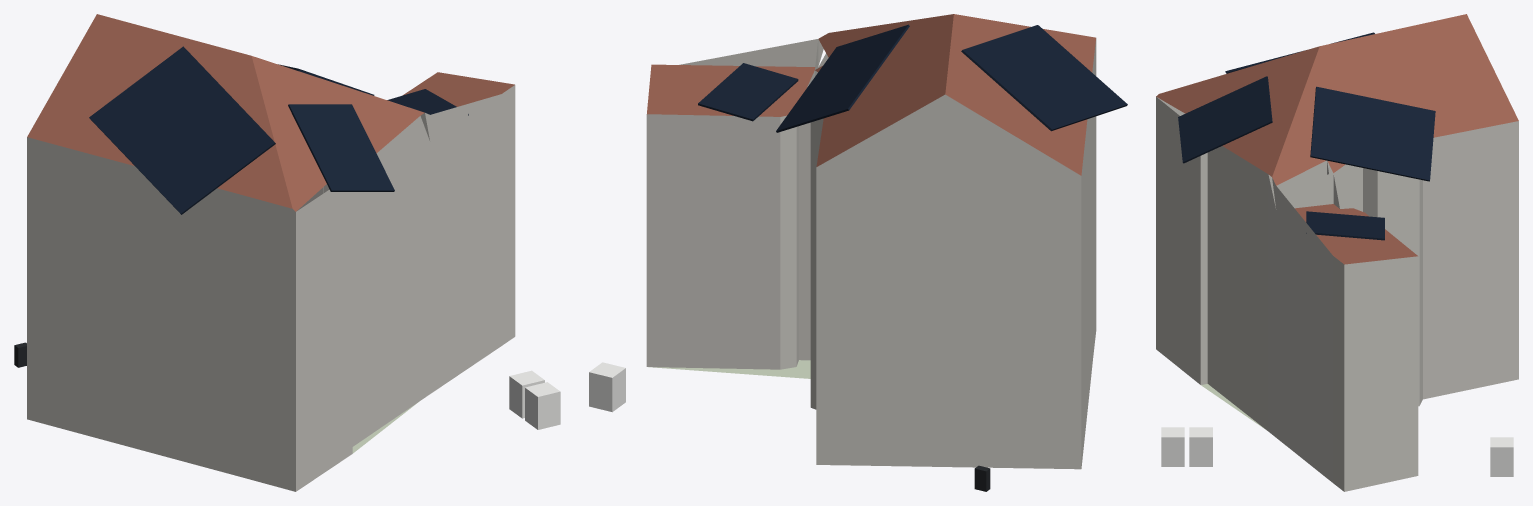
File: spike-house-lod2.glb
3 views of the same model, side by side, from view 1: azimuth 30°, elevation 25°; view 2: azimuth 150°, elevation 25°; view 3: azimuth 270°, elevation 25° (orthographic). The views are drawn at different scales.
Visible parts, largest first — view 1: Building_wall, Building_roof, PV_Panel_00, PV_Panel_02, Battery_00, PV_Panel_03, Battery_01; view 2: Building_wall, Building_roof, PV_Panel_00, PV_Panel_01, PV_Panel_03, HeatPump, Building_ground; view 3: Building_wall, Building_roof, PV_Panel_01, PV_Panel_02, PV_Panel_03, Battery_00, Battery_01, HeatPump.
Part boxes in pixels (x1,y1,x2,y2): Building_wall: (27,85,515,491); Building_roof: (27,14,514,211); PV_Panel_00: (89,46,275,214); PV_Panel_02: (288,104,394,191); Battery_00: (525,382,560,429); PV_Panel_03: (387,89,468,115); Battery_01: (509,370,544,418); Building_wall: (646,38,1096,469); Building_roof: (647,14,1095,175); PV_Panel_00: (961,25,1127,131); PV_Panel_01: (776,24,909,132); PV_Panel_03: (698,63,798,121); HeatPump: (589,362,625,412); Building_ground: (648,360,810,378); Building_wall: (1156,97,1518,491); Building_roof: (1156,14,1518,264); PV_Panel_01: (1310,86,1435,181); PV_Panel_02: (1178,76,1272,163); PV_Panel_03: (1306,211,1384,240); Battery_00: (1161,427,1184,466); Battery_01: (1189,427,1212,466); HeatPump: (1490,437,1513,476).
Size of the model in its own units: 27.59 by 20.95 by 21.3.
